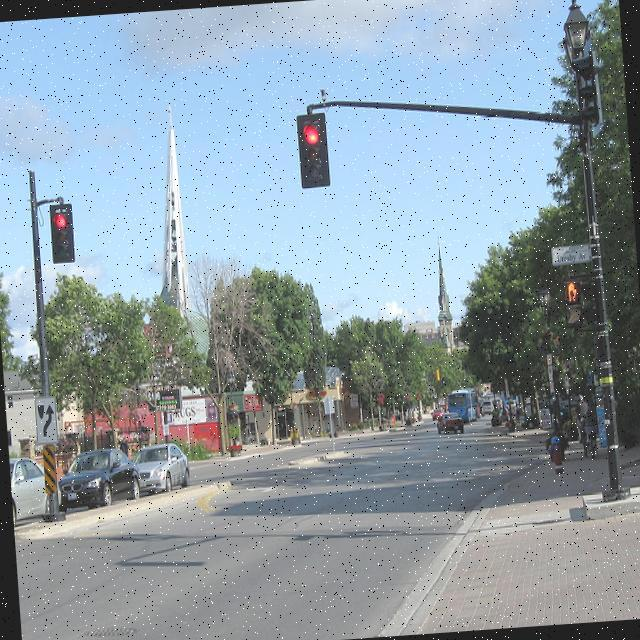fire_hydrant: (550, 435, 564, 473)
